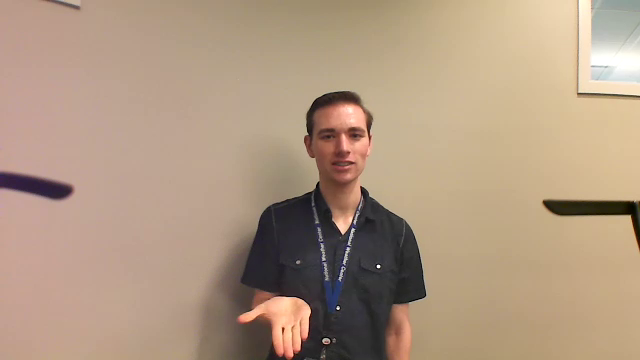land: (230, 291, 310, 360)
